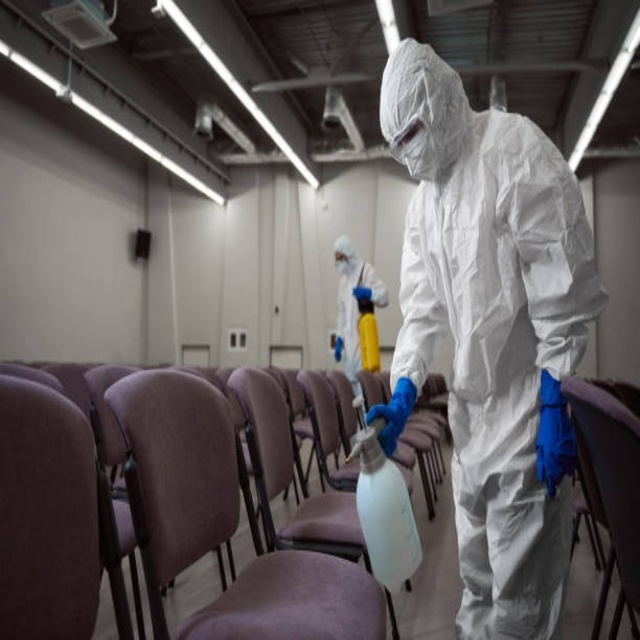Guantes: (530, 369, 570, 489), (368, 373, 419, 458)
Mascara: (395, 135, 439, 184)
